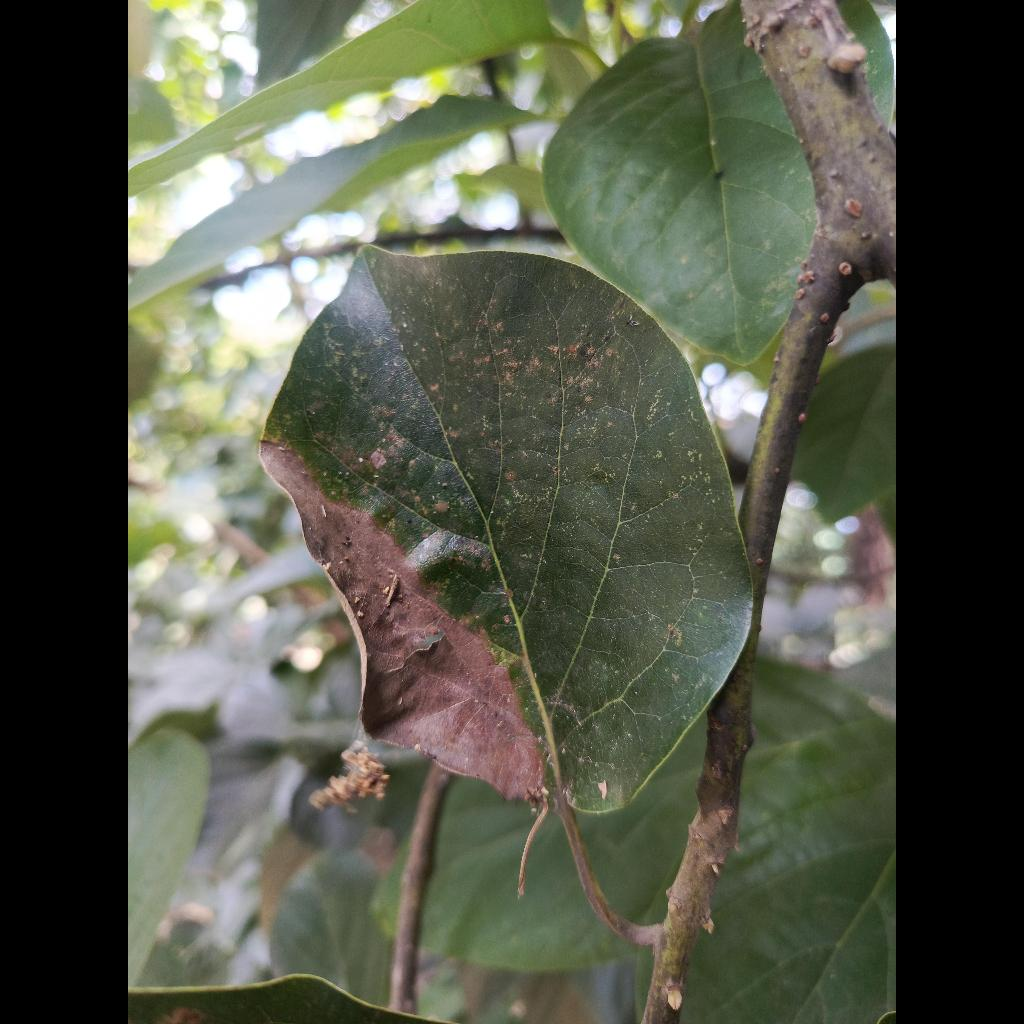Anthracnose: (262, 248, 751, 813)
